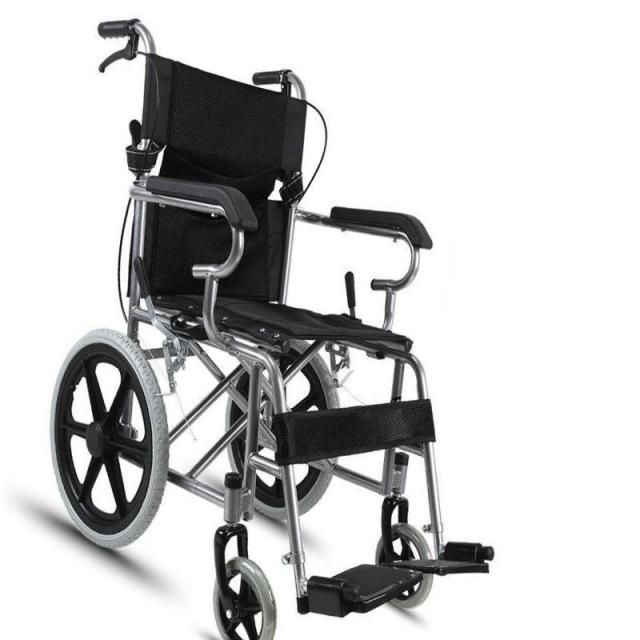wheelchair: (41, 10, 515, 640)
